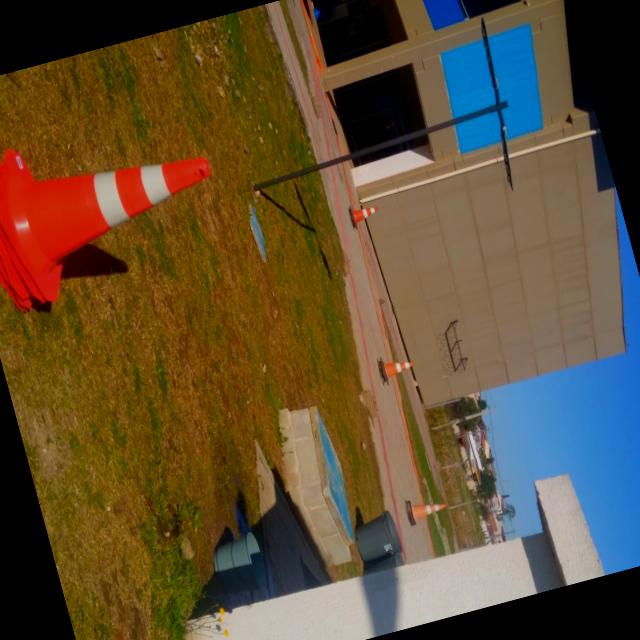cone: (0, 91, 243, 320), (398, 480, 456, 533), (374, 344, 421, 394), (342, 197, 382, 234)
